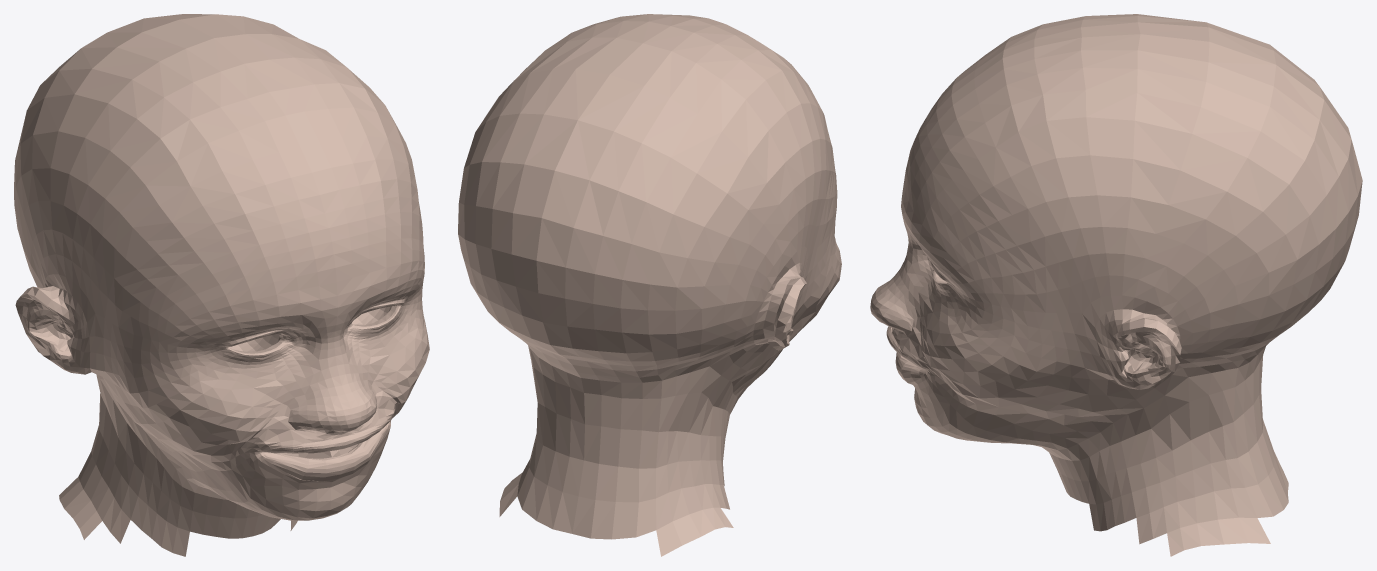
Rendered from karma_face_MH_smile_Y.glb.
3 renders of one model, left to right at view 1: azimuth 30°, elevation 25°; view 2: azimuth 150°, elevation 25°; view 3: azimuth 270°, elevation 25°, orthographic. The views are drawn at different scales.
Visible parts, largest first — view 1: head; view 2: head; view 3: head.
Boxes of the visible parts, x1,y1,x2,y2 form: head: (14,14,429,556); head: (458,14,841,556); head: (870,14,1362,556).
Bounding box in the file's own units: 3.03 × 3.91 × 3.7.
